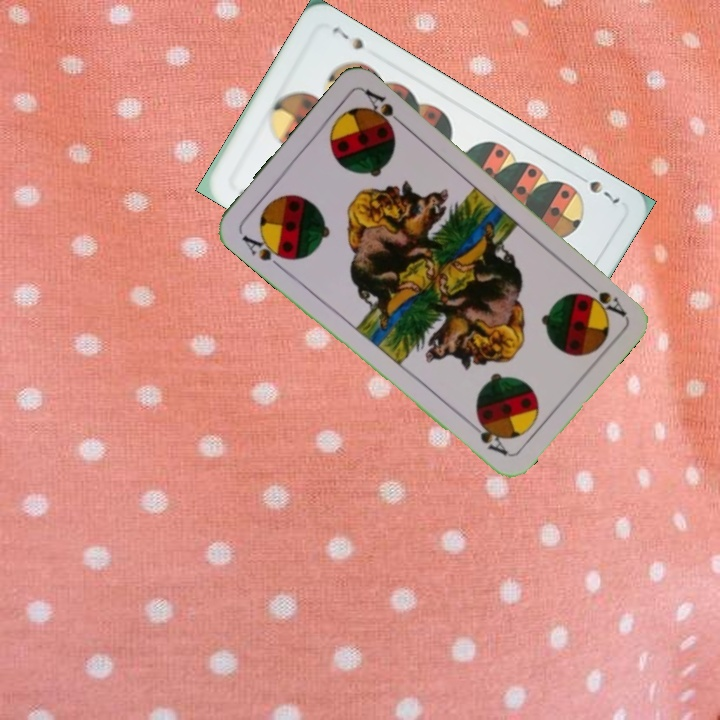S7: (572, 170, 623, 206)
SA: (237, 231, 292, 273), (579, 275, 629, 320)
